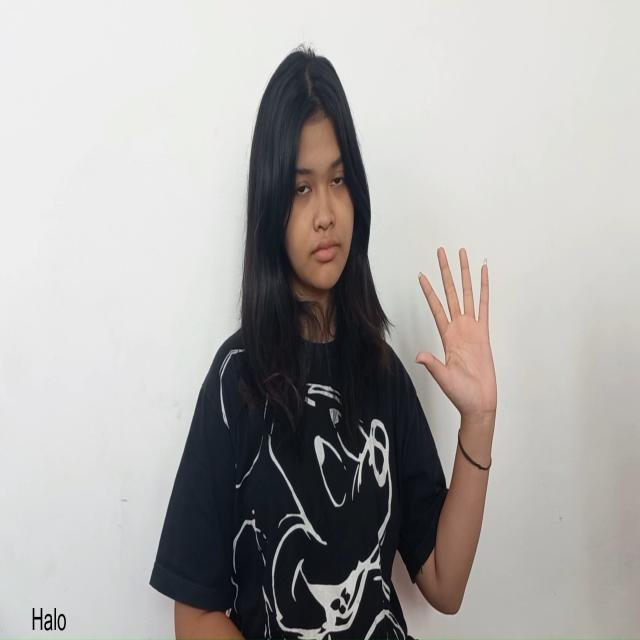Halo -BISINDO-: (414, 246, 498, 428)
